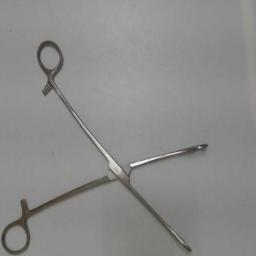Sponge Forceps: (2, 36, 214, 256)
